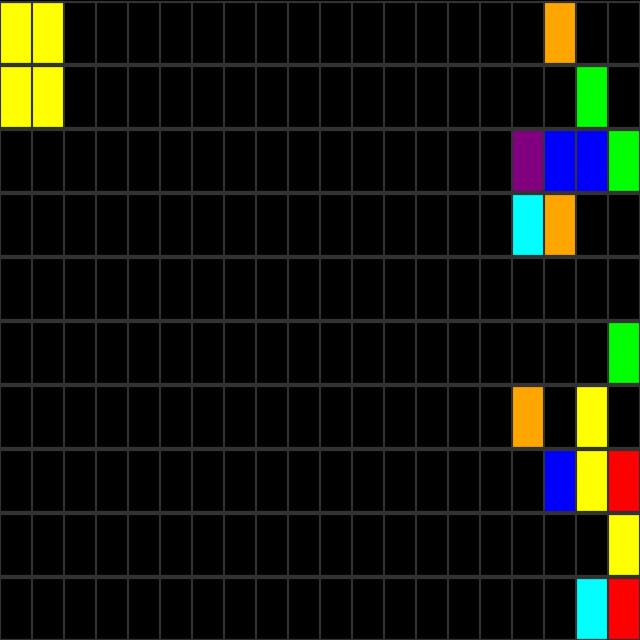Tetrimino_O: (1, 0, 64, 128)
